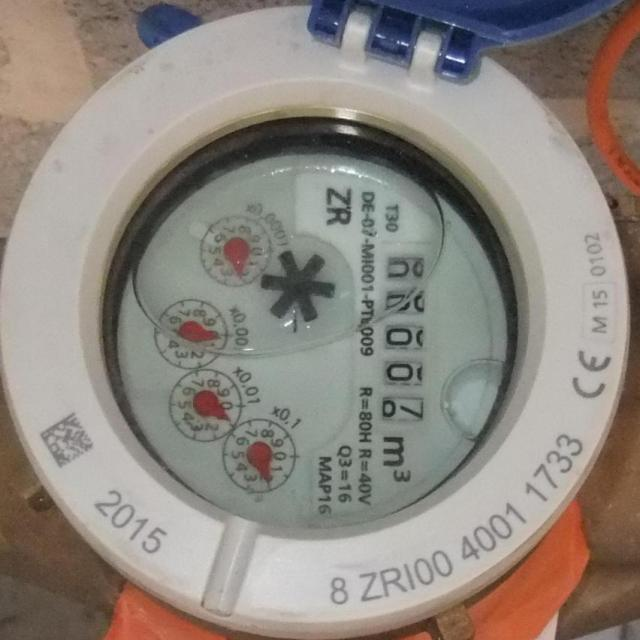gaz_meter: (117, 144, 520, 539)
indication: (375, 242, 431, 426)
